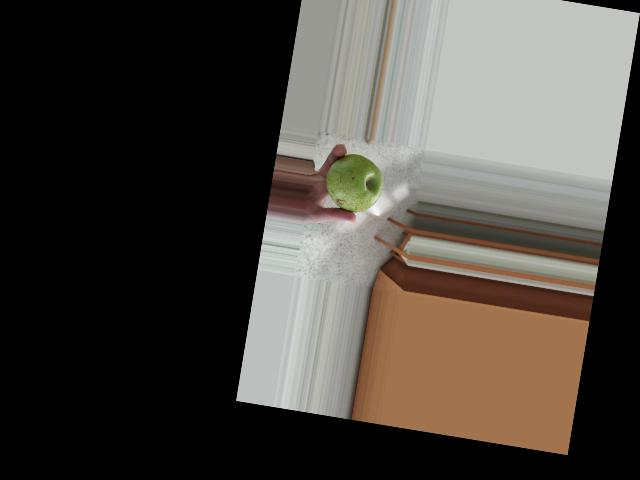apple: (320, 147, 388, 216)
